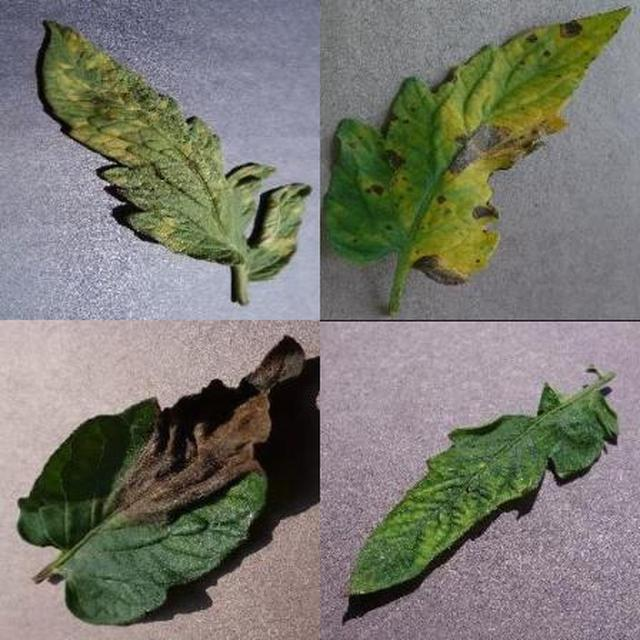Leaf Mold: (234, 209, 640, 640)
